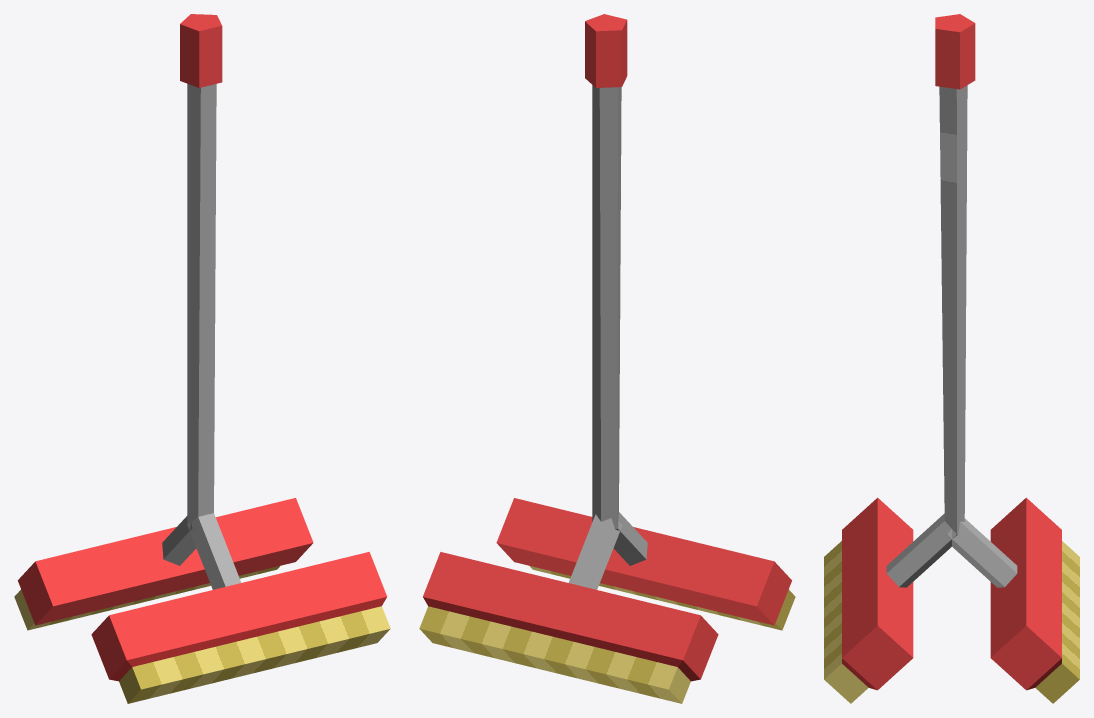
File: Broom Model.fbx
3 renders of one model, left to right at view 1: azimuth 30°, elevation 25°; view 2: azimuth 150°, elevation 25°; view 3: azimuth 270°, elevation 25°, orthographic.
Parts seen in each view (by area): view 1: cylinder; view 2: cylinder; view 3: cylinder.
Part boxes in pixels (x1,y1,x2,y2): cylinder: (14,14,390,703); cylinder: (419,14,795,703); cylinder: (824,14,1079,703).
Bounding box in the file's own units: 75 × 169 × 63.26.
Materials: 1 (1 with a texture image).
